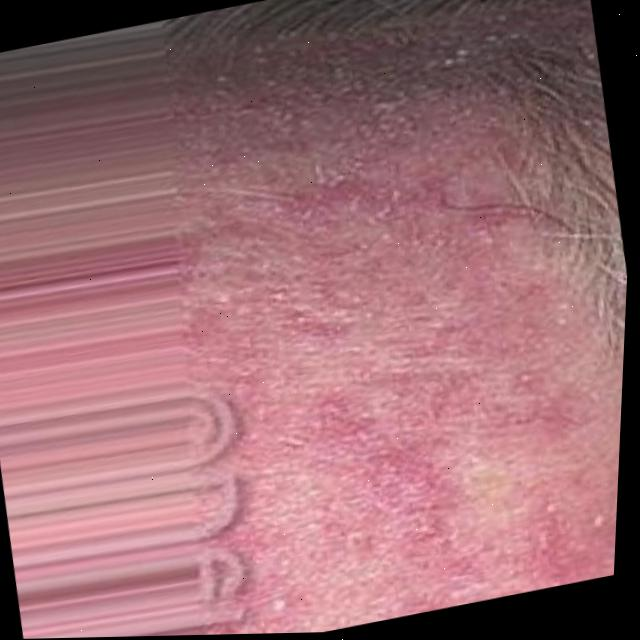Rosacea: (228, 108, 631, 634)
